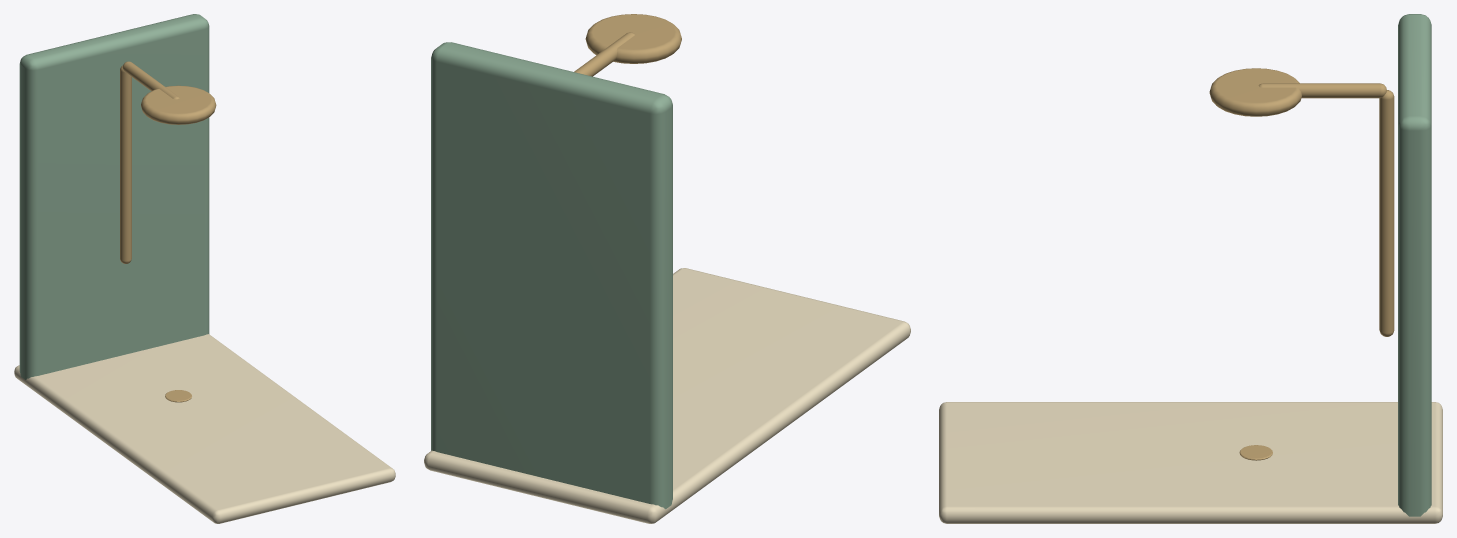
Rendered from shower.glb.
3 renders of one model, left to right at view 1: azimuth 30°, elevation 25°; view 2: azimuth 150°, elevation 25°; view 3: azimuth 270°, elevation 25°, orthographic. The views are drawn at different scales.
Parts seen in each view (by area): view 1: Body_sage, Body_cream, Body_gold; view 2: Body_sage, Body_cream, Body_gold; view 3: Body_cream, Body_sage, Body_gold.
Boxes of the visible parts, x1,y1,x2,y2 form: Body_sage: (19, 14, 209, 379); Body_cream: (14, 334, 395, 523); Body_gold: (120, 61, 216, 402); Body_sage: (431, 42, 672, 509); Body_cream: (424, 268, 910, 523); Body_gold: (574, 14, 681, 76); Body_cream: (939, 402, 1442, 523); Body_sage: (1398, 14, 1431, 516); Body_gold: (1209, 68, 1394, 460).
Size of the model in its own units: 1.4 by 2.4 by 2.7.
